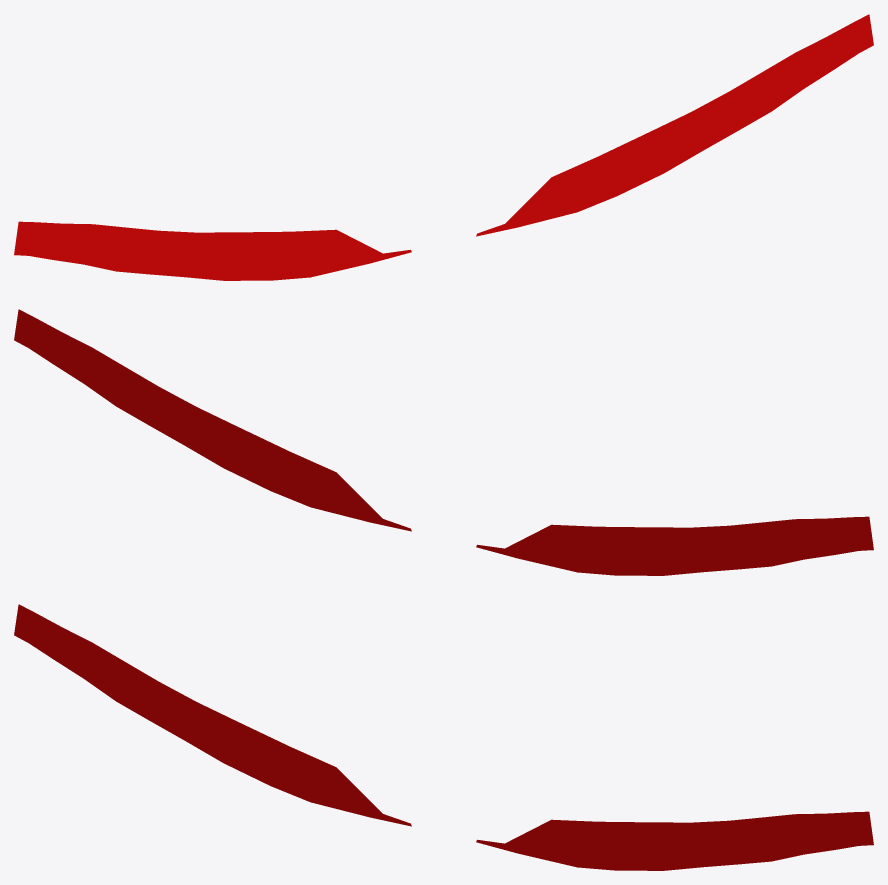
The model's file is frame72.fbx.
3 renders of one model, top to bottom at view 1: azimuth 30°, elevation 25°; view 2: azimuth 150°, elevation 25°; view 3: azimuth 330°, elevation 25°, orthographic.
Visible parts, largest first — view 1: MaterialLayer; view 2: MaterialLayer; view 3: MaterialLayer.
Part boxes in pixels (box(x1,y1,x2,y2)): MaterialLayer: box(14, 14, 873, 280); MaterialLayer: box(14, 309, 873, 575); MaterialLayer: box(14, 604, 873, 870).
Size of the model in its own units: 1285 by 182 by 4.13e-05.
